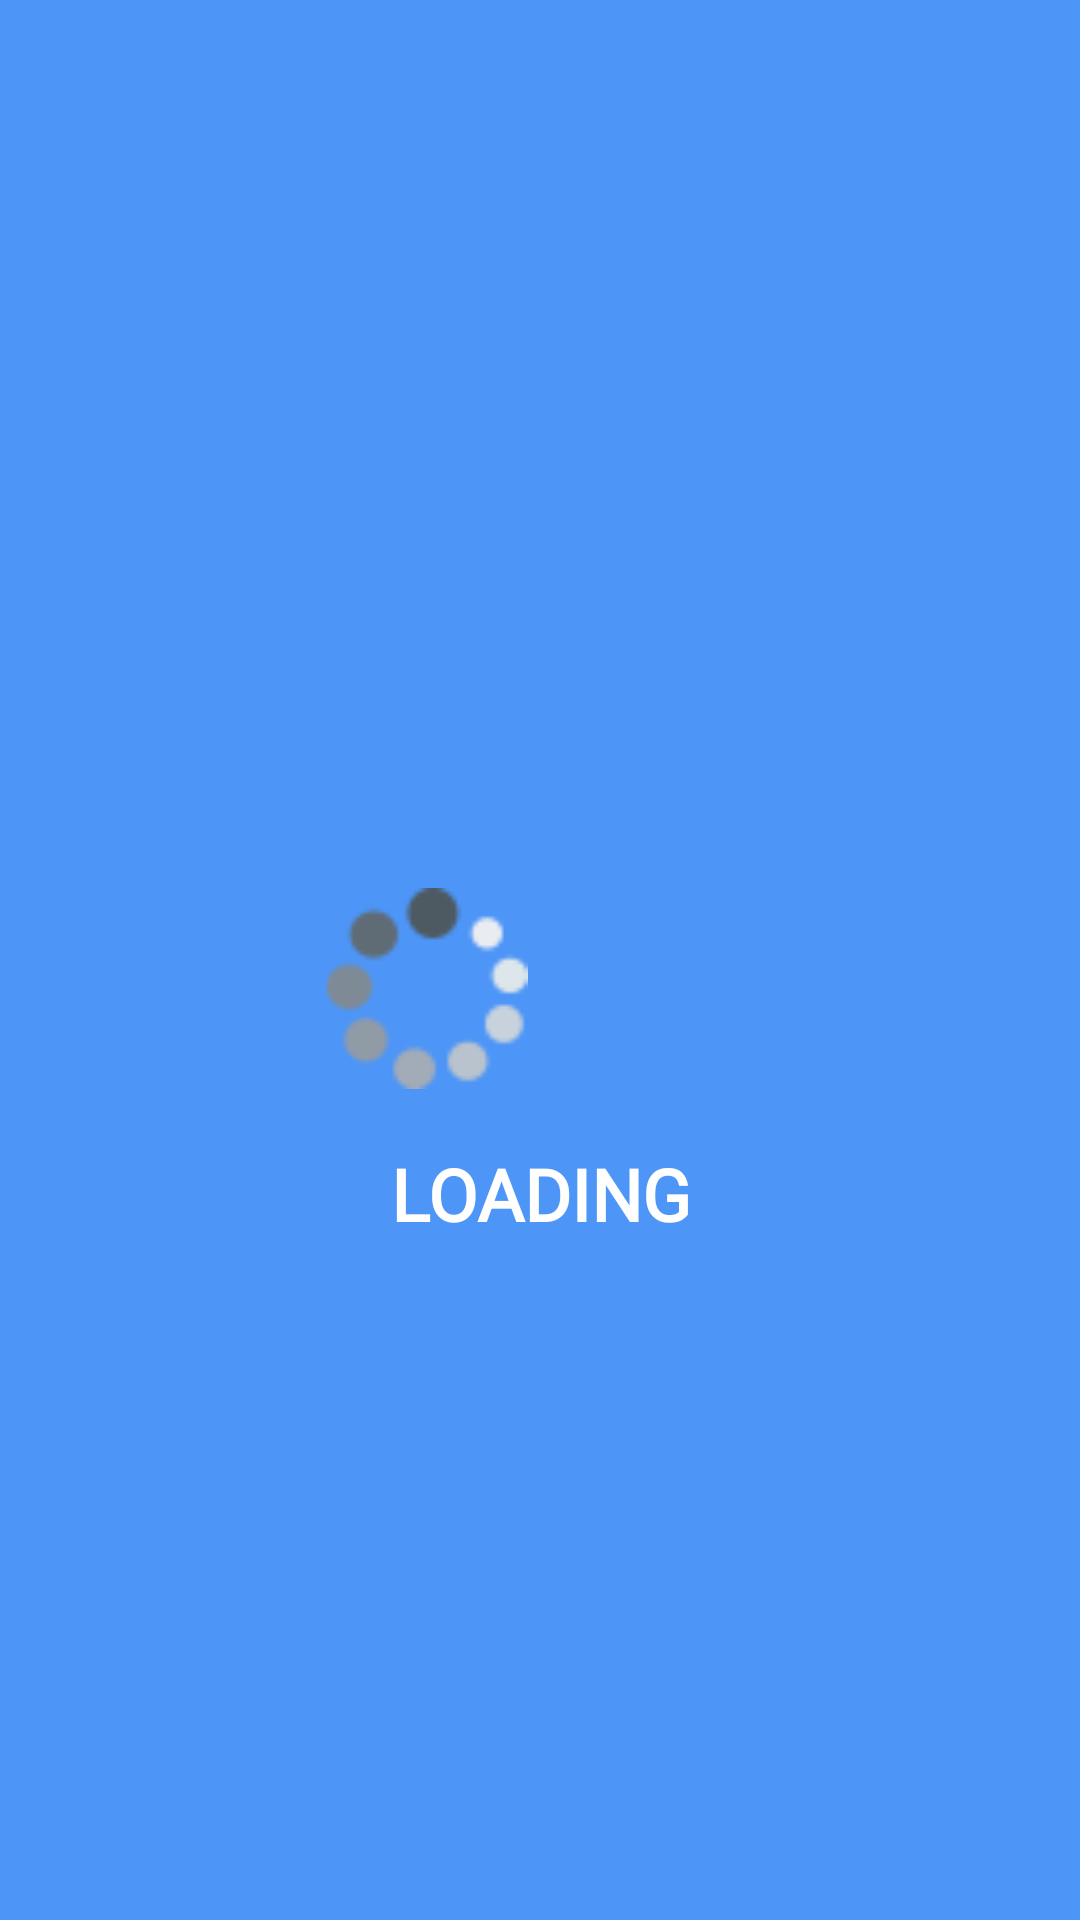

Icons on this 1080px×1920px Android screen, each with the point to tap as [x,y]:
loding: [427,988]
